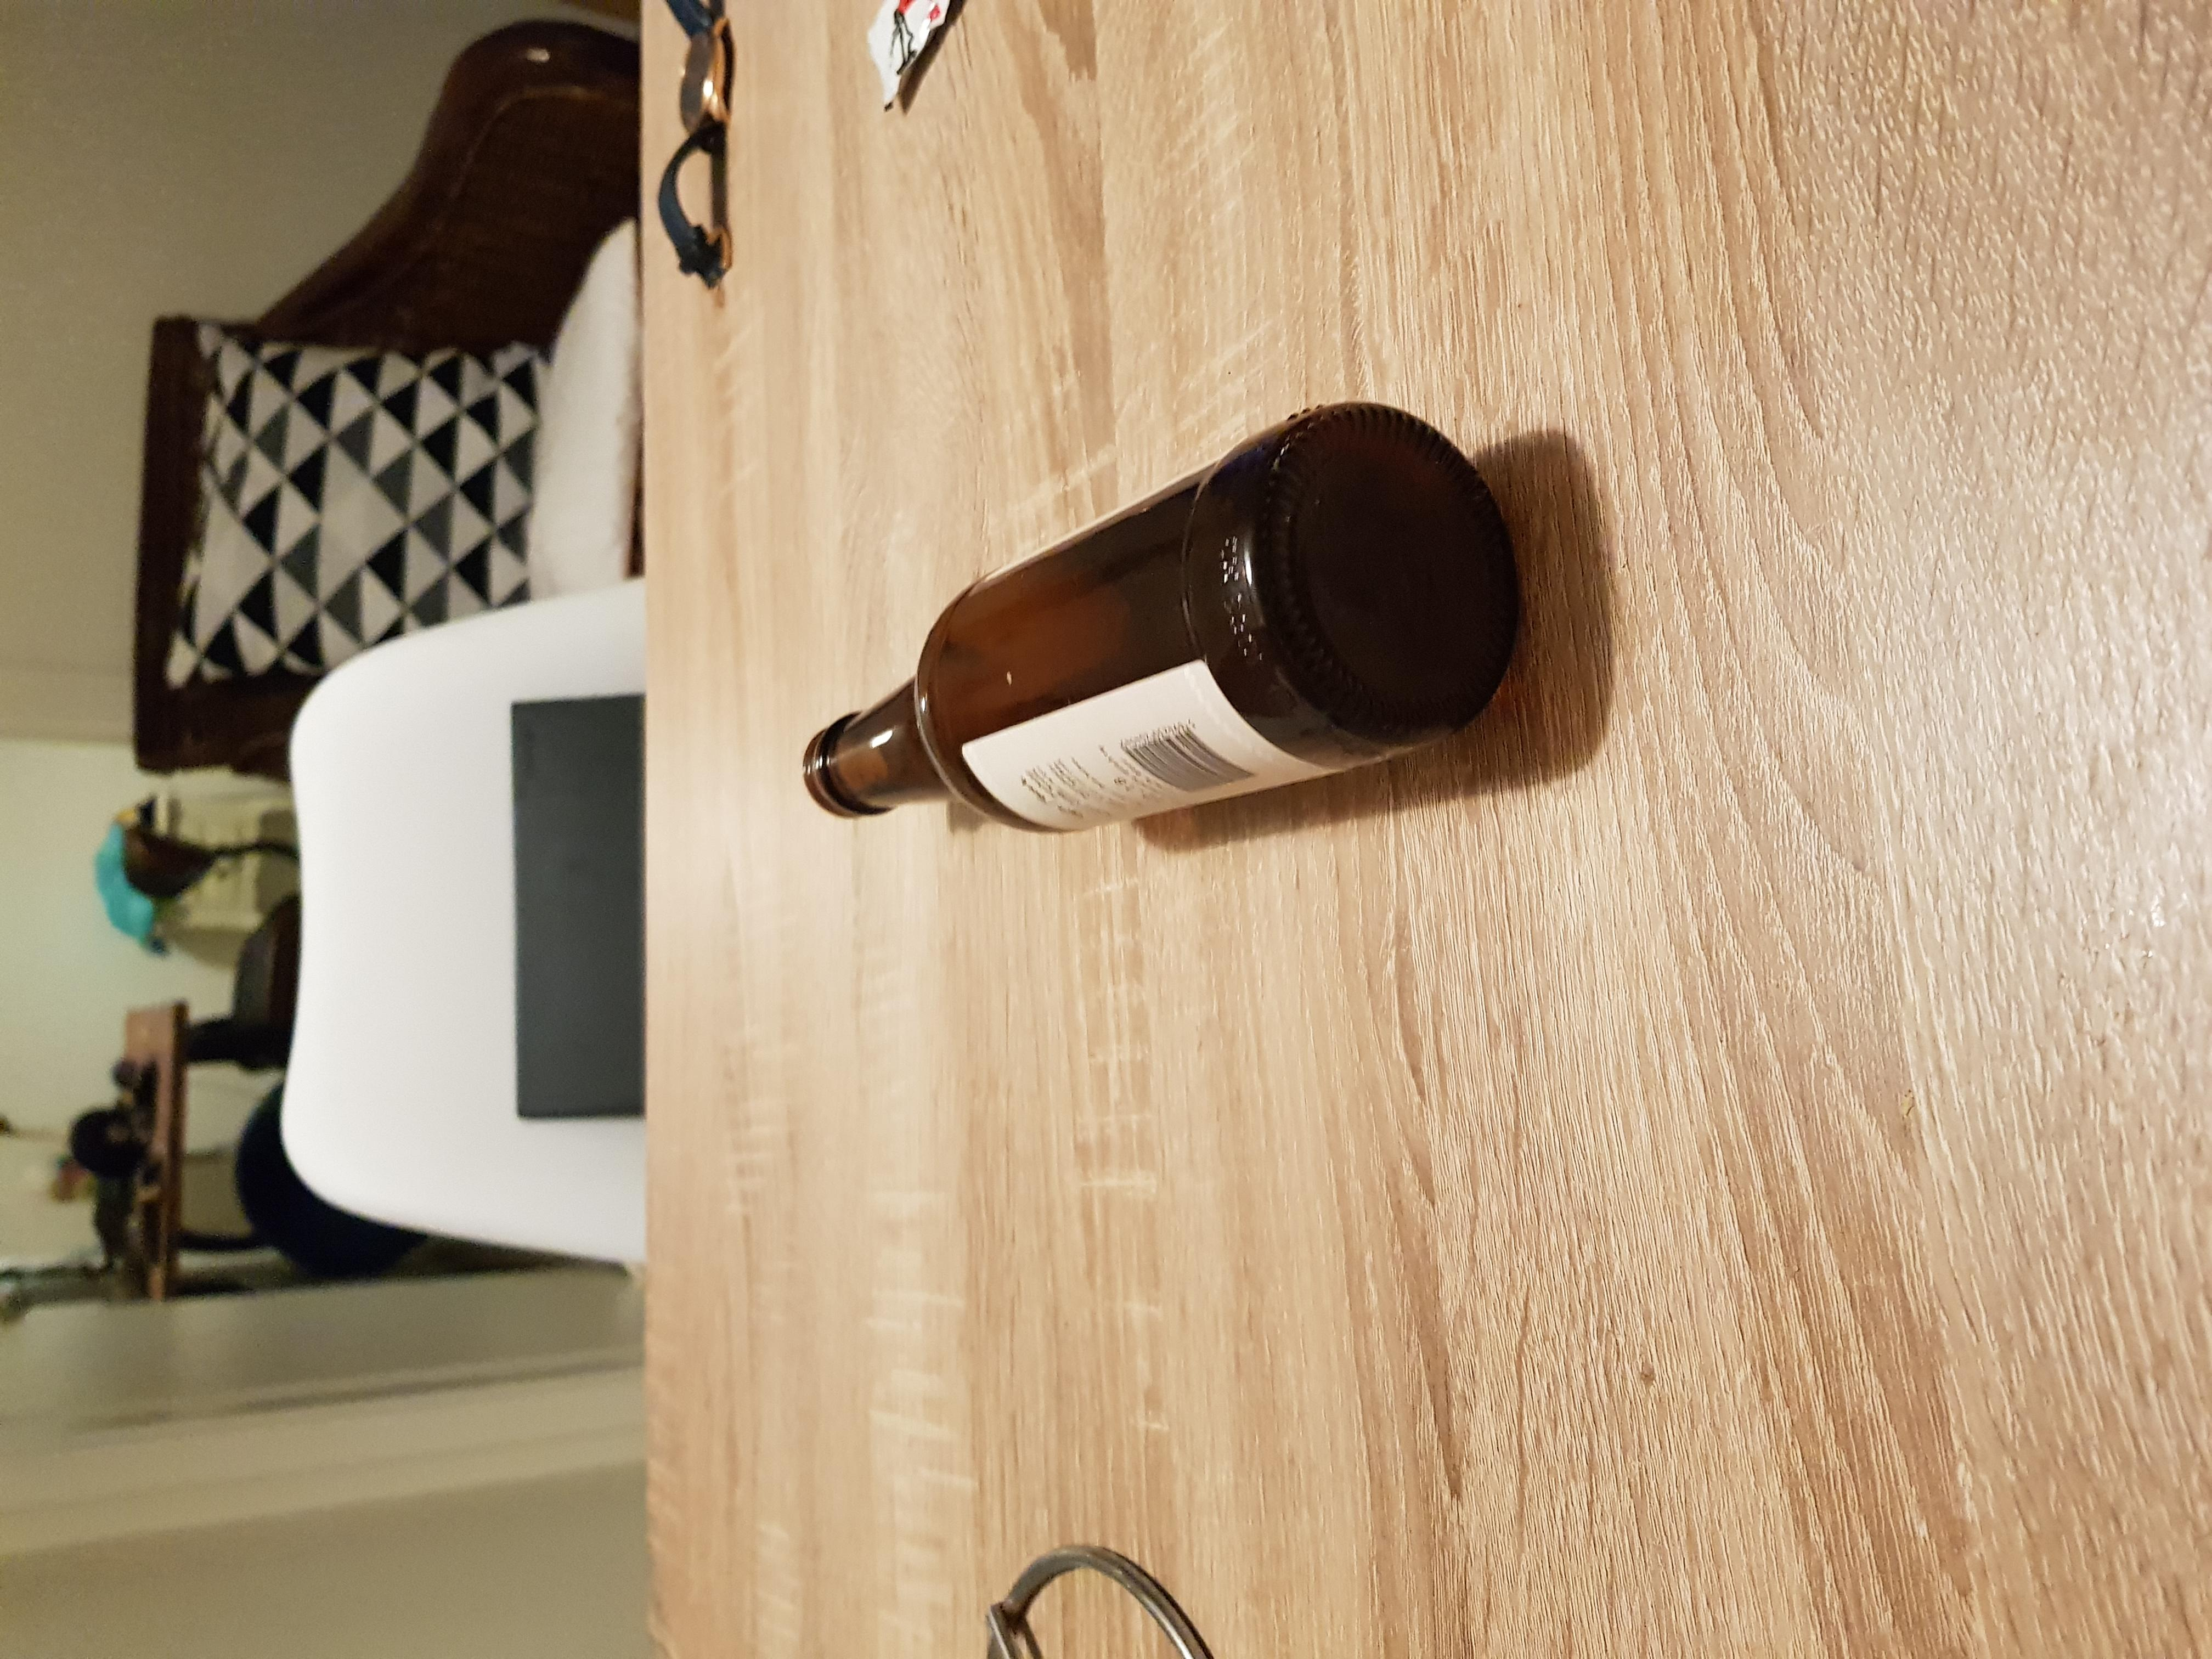Bottle: (796, 399, 1519, 835)
